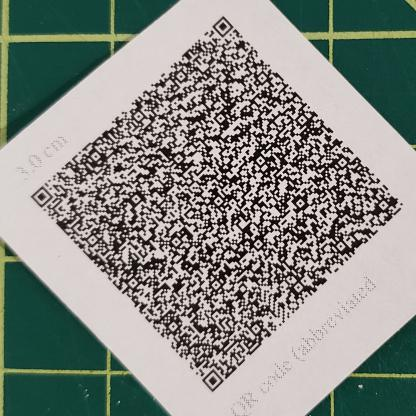qr: (27, 11, 411, 396)
